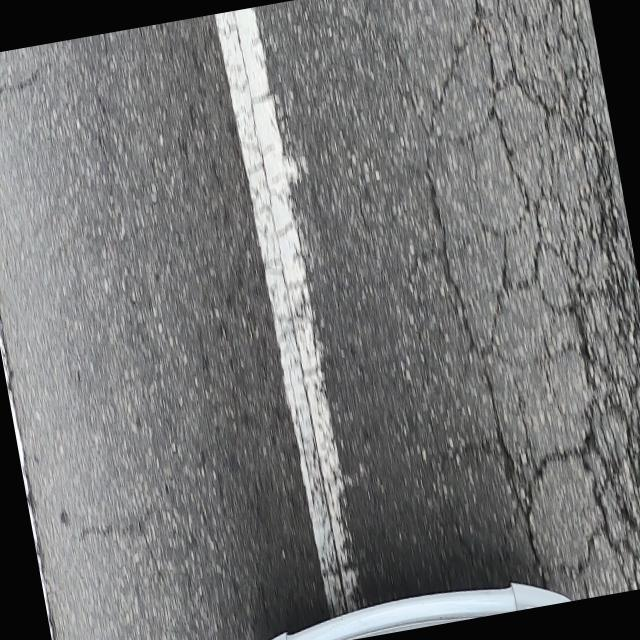Retak-Buaya: (422, 0, 640, 599)
